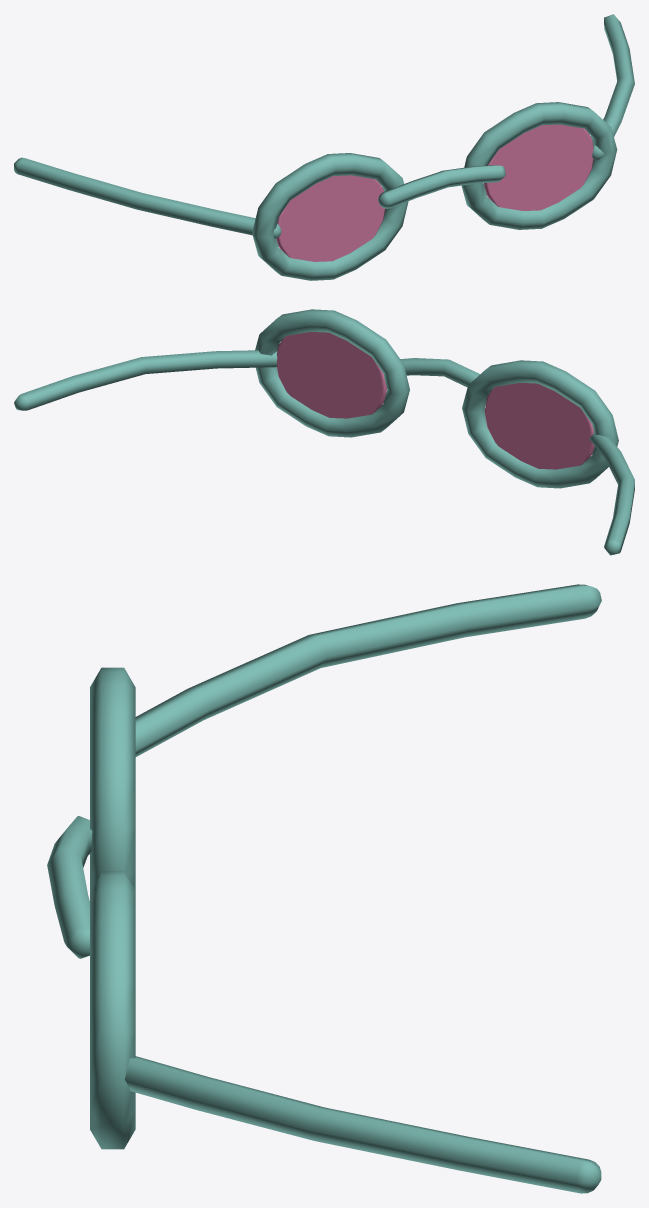
The model's file is neon_shades.glb.
3 renders of one model, top to bottom at view 1: azimuth 30°, elevation 25°; view 2: azimuth 150°, elevation 25°; view 3: azimuth 270°, elevation 25°, orthographic. The views are drawn at different scales.
Parts seen in each view (by area): view 1: neon_shades_Head; view 2: neon_shades_Head; view 3: neon_shades_Head.
Part boxes in pixels (left/top/right/bottom): neon_shades_Head: left=14, top=14, right=634, bottom=280; neon_shades_Head: left=14, top=309, right=634, bottom=555; neon_shades_Head: left=47, top=584, right=601, bottom=1193.
Size of the model in its own units: 0.674 by 0.1296 by 0.2681.
